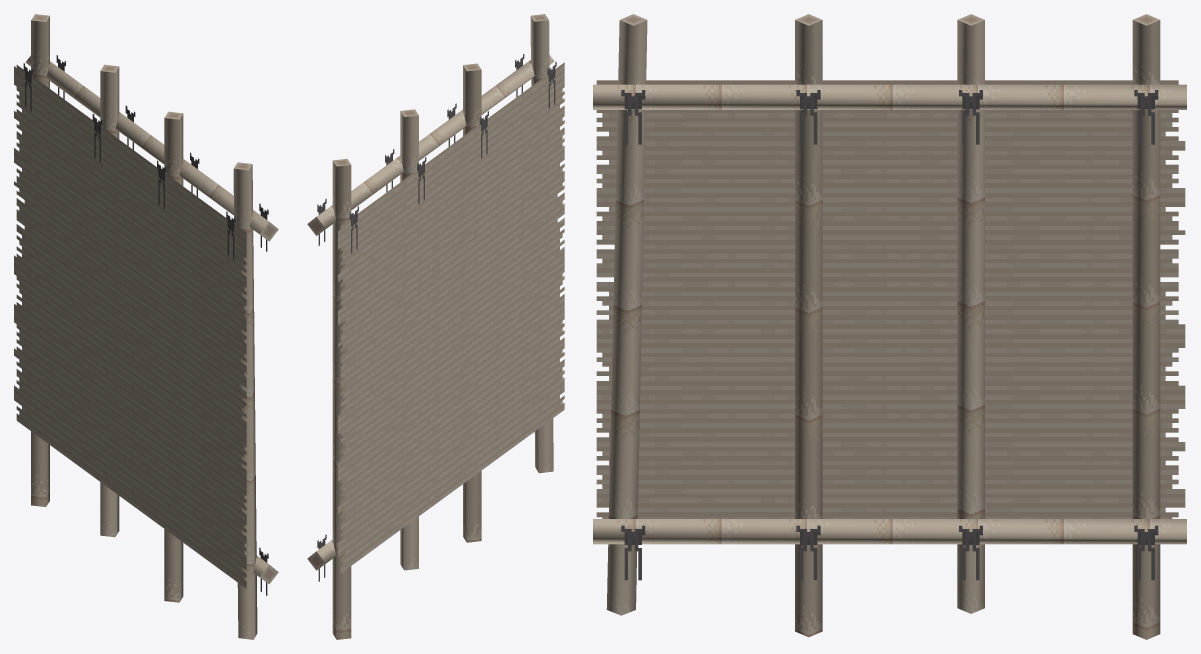
File: 0479_Bamboo_Fence.glb
3 renders of one model, left to right at view 1: azimuth 30°, elevation 25°; view 2: azimuth 150°, elevation 25°; view 3: azimuth 270°, elevation 25°, orthographic. The views are drawn at different scales.
Parts seen in each view (by area): view 1: part_0; view 2: part_0; view 3: part_0.
Boxes of the visible parts, x1,y1,x2,y2 form: part_0: (14, 14, 278, 639); part_0: (307, 14, 564, 639); part_0: (593, 14, 1186, 639).
Bounding box in the file's own units: 0.0734 × 1.03 × 0.9025.
Materials: 1 (1 with a texture image).
